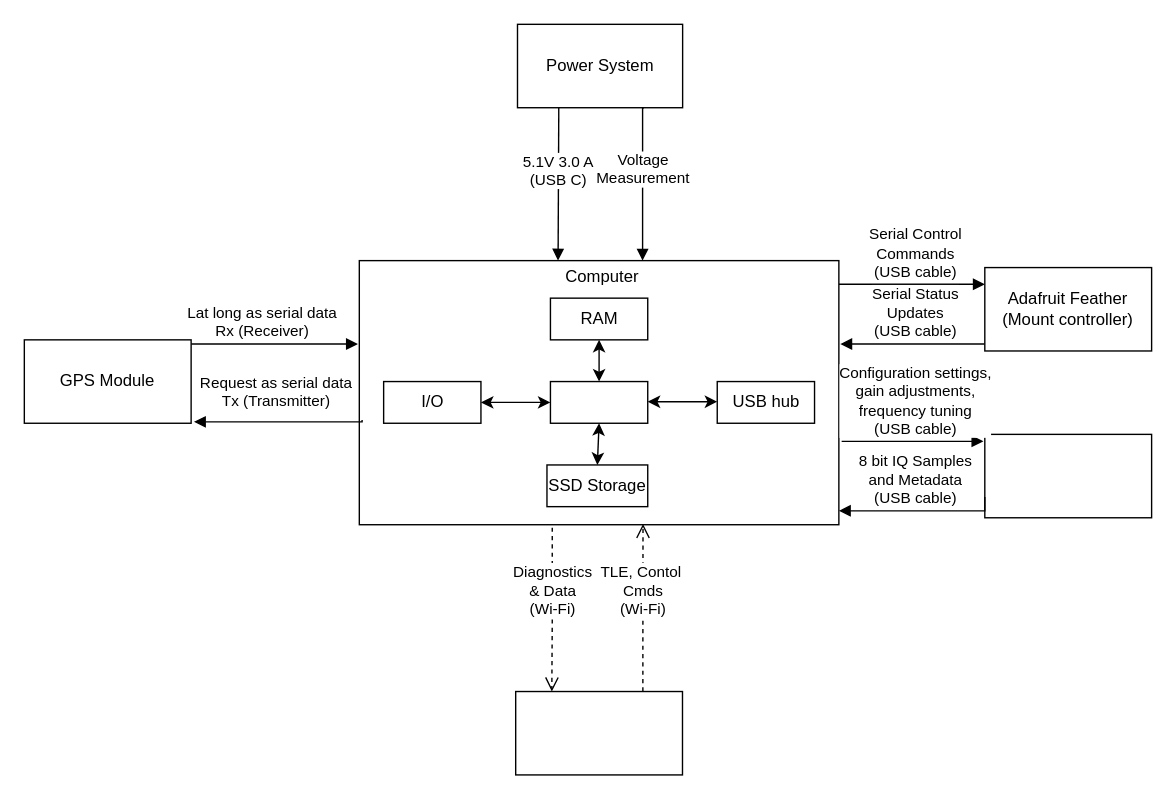
The diagram is 1176 pixels wide and 799 high, and some of its shapes have lost their labels. The box of each missing label's shape, as (x1, y1, x2, y2) in pixels:
CPU/GPU: (549, 380, 648, 423)
Receiver: (983, 433, 1152, 518)
Wireless Device: (514, 690, 682, 775)
